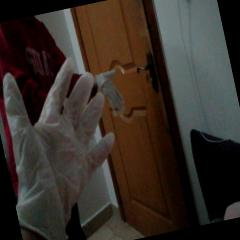gloved: (0, 54, 135, 239), (94, 66, 126, 118)
